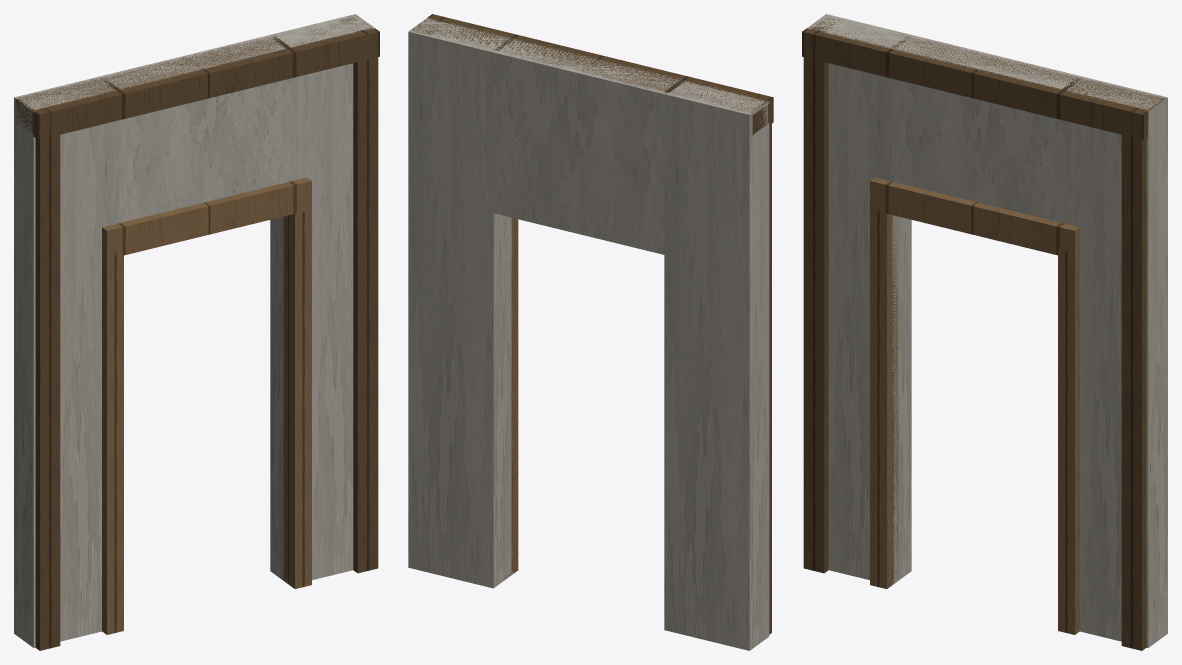
The model's file is env_wall_door_a_v001.glb.
3 renders of one model, left to right at view 1: azimuth 30°, elevation 25°; view 2: azimuth 150°, elevation 25°; view 3: azimuth 330°, elevation 25°, orthographic.
Visible parts, largest first — view 1: env_wall_door_a_LOD0_mesh, env_wall_door_a_LOD1_mesh; view 2: env_wall_door_a_LOD0_mesh, env_wall_door_a_LOD1_mesh; view 3: env_wall_door_a_LOD0_mesh, env_wall_door_a_LOD1_mesh.
Part boxes in pixels (x1=…): env_wall_door_a_LOD0_mesh: x1=15, y1=16, x2=377, y2=646; env_wall_door_a_LOD1_mesh: x1=14, y1=14, x2=379, y2=650; env_wall_door_a_LOD0_mesh: x1=410, y1=15, x2=772, y2=647; env_wall_door_a_LOD1_mesh: x1=408, y1=14, x2=773, y2=650; env_wall_door_a_LOD0_mesh: x1=804, y1=16, x2=1166, y2=646; env_wall_door_a_LOD1_mesh: x1=802, y1=14, x2=1167, y2=650.
Size of the model in its own units: 2 by 3 by 0.25.
Materials: 3 (3 with a texture image).
